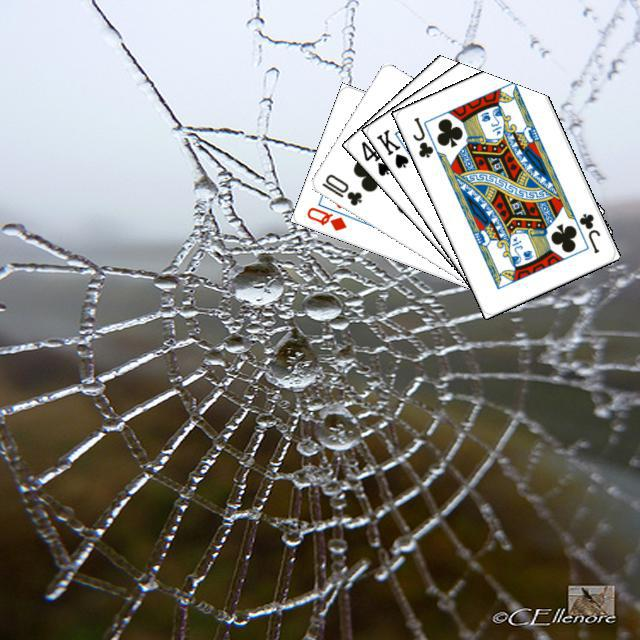10c: (317, 169, 364, 207)
4s: (356, 136, 393, 178)
Jc: (407, 112, 435, 160), (574, 208, 602, 255)
Ks: (371, 124, 411, 170)
Qd: (302, 202, 348, 233)
